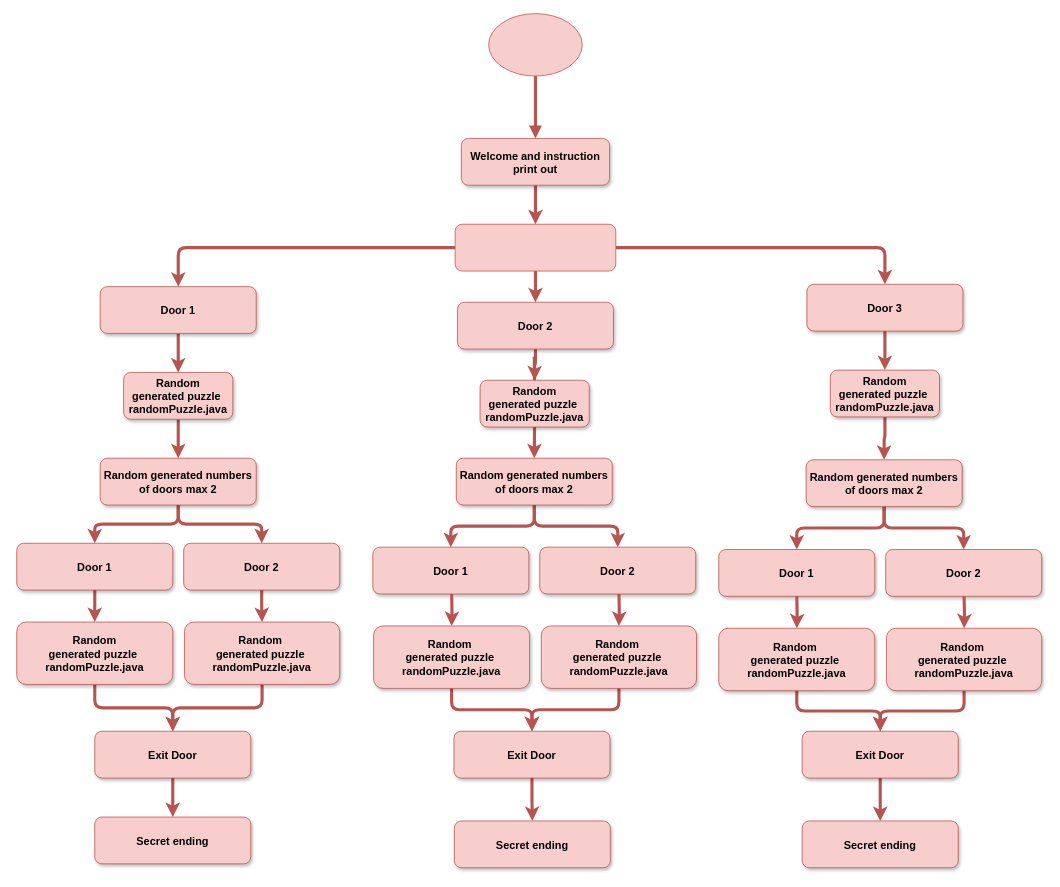
This 1060x887 diagram has some shape labels left out. Here are the shapes that lost their labels. From the top down, the centre of each, then its label:
At point (535, 44): "Start".
At point (535, 247): "Will be asked to pick a door".
